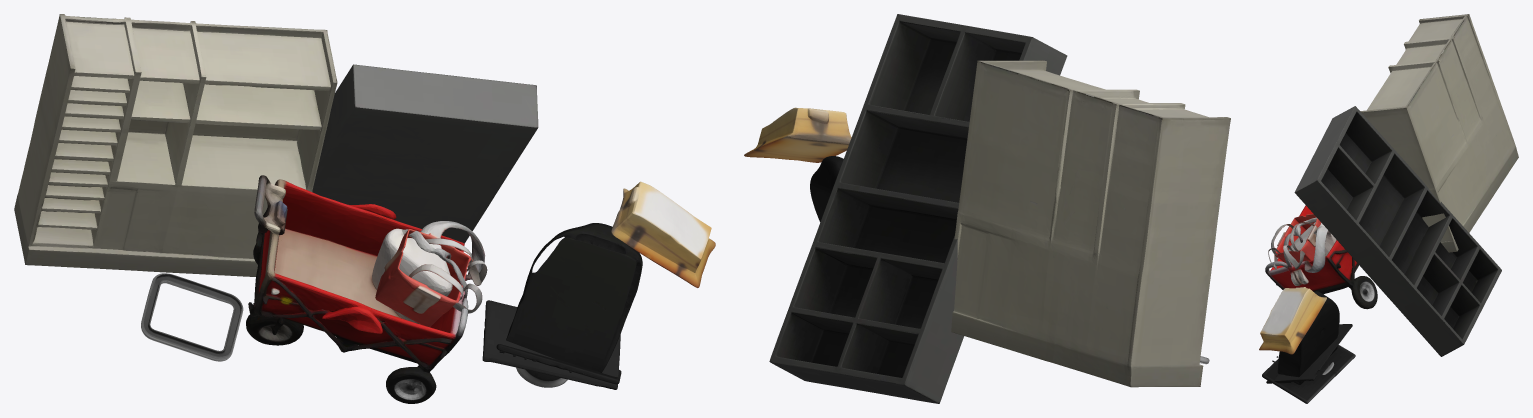
File: sam3d.glb
3 renders of one model, left to right at view 1: azimuth 30°, elevation 25°; view 2: azimuth 150°, elevation 25°; view 3: azimuth 270°, elevation 25°, orthographic. The views are drawn at different scales.
Visible parts, largest first — view 1: object_1, object_2, object_3, object_0, object_7, object_5, object_6, object_4; view 2: object_1, object_3, object_7, object_0; view 3: object_3, object_1, object_2, object_0, object_7, object_5, object_6.
Part boxes in pixels (bbox=[...]): object_1: bbox=[14, 14, 337, 276]; object_2: bbox=[246, 175, 485, 403]; object_3: bbox=[312, 64, 538, 243]; object_0: bbox=[496, 223, 642, 384]; object_7: bbox=[611, 181, 715, 287]; object_5: bbox=[375, 229, 487, 326]; object_6: bbox=[482, 300, 620, 389]; object_4: bbox=[141, 273, 243, 361]; object_1: bbox=[951, 60, 1230, 387]; object_3: bbox=[769, 14, 1067, 403]; object_7: bbox=[744, 107, 851, 162]; object_0: bbox=[810, 156, 843, 221]; object_3: bbox=[1294, 106, 1501, 356]; object_1: bbox=[1360, 14, 1518, 252]; object_2: bbox=[1265, 205, 1377, 309]; object_0: bbox=[1262, 291, 1355, 403]; object_7: bbox=[1259, 287, 1326, 354]; object_5: bbox=[1268, 214, 1321, 269]; object_6: bbox=[1266, 324, 1352, 383].
Bounding box in the file's own units: 2.36 × 1.52 × 1.44.
8 materials, 8 textured.
